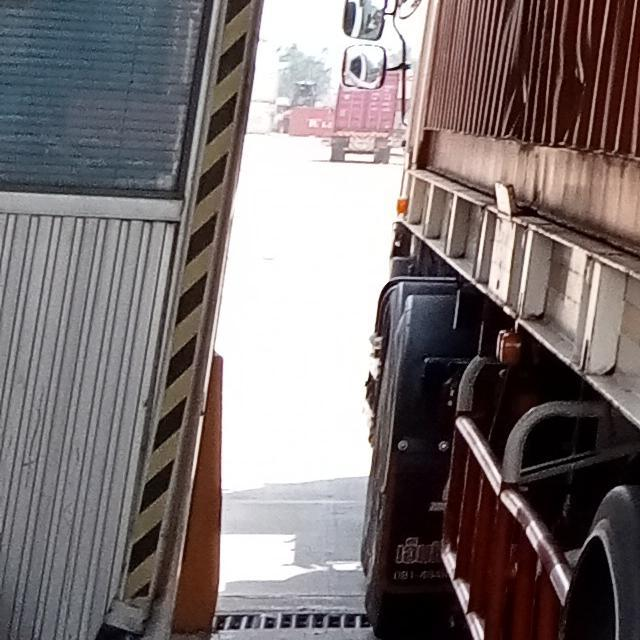dent: (542, 27, 611, 145), (490, 38, 535, 136)
